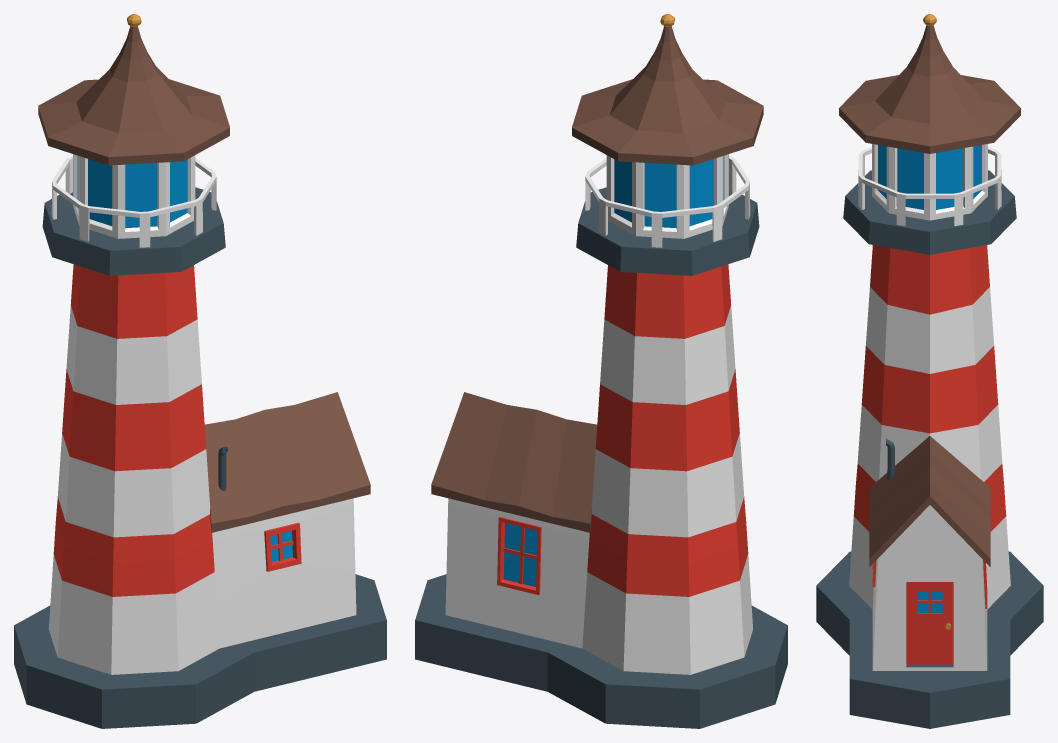
The model's file is Lighthouse.glb.
3 views of the same model, side by side, from view 1: azimuth 30°, elevation 25°; view 2: azimuth 150°, elevation 25°; view 3: azimuth 270°, elevation 25° (orthographic). The views are drawn at different scales.
Visible parts, largest first — view 1: lighthouse_Circle; view 2: lighthouse_Circle; view 3: lighthouse_Circle.
Part boxes in pixels (x1,y1,x2,y2): lighthouse_Circle: (14,14,386,728); lighthouse_Circle: (415,14,787,728); lighthouse_Circle: (816,14,1043,728).
Bounding box in the file's own units: 9.93 × 18.12 × 6.15.
